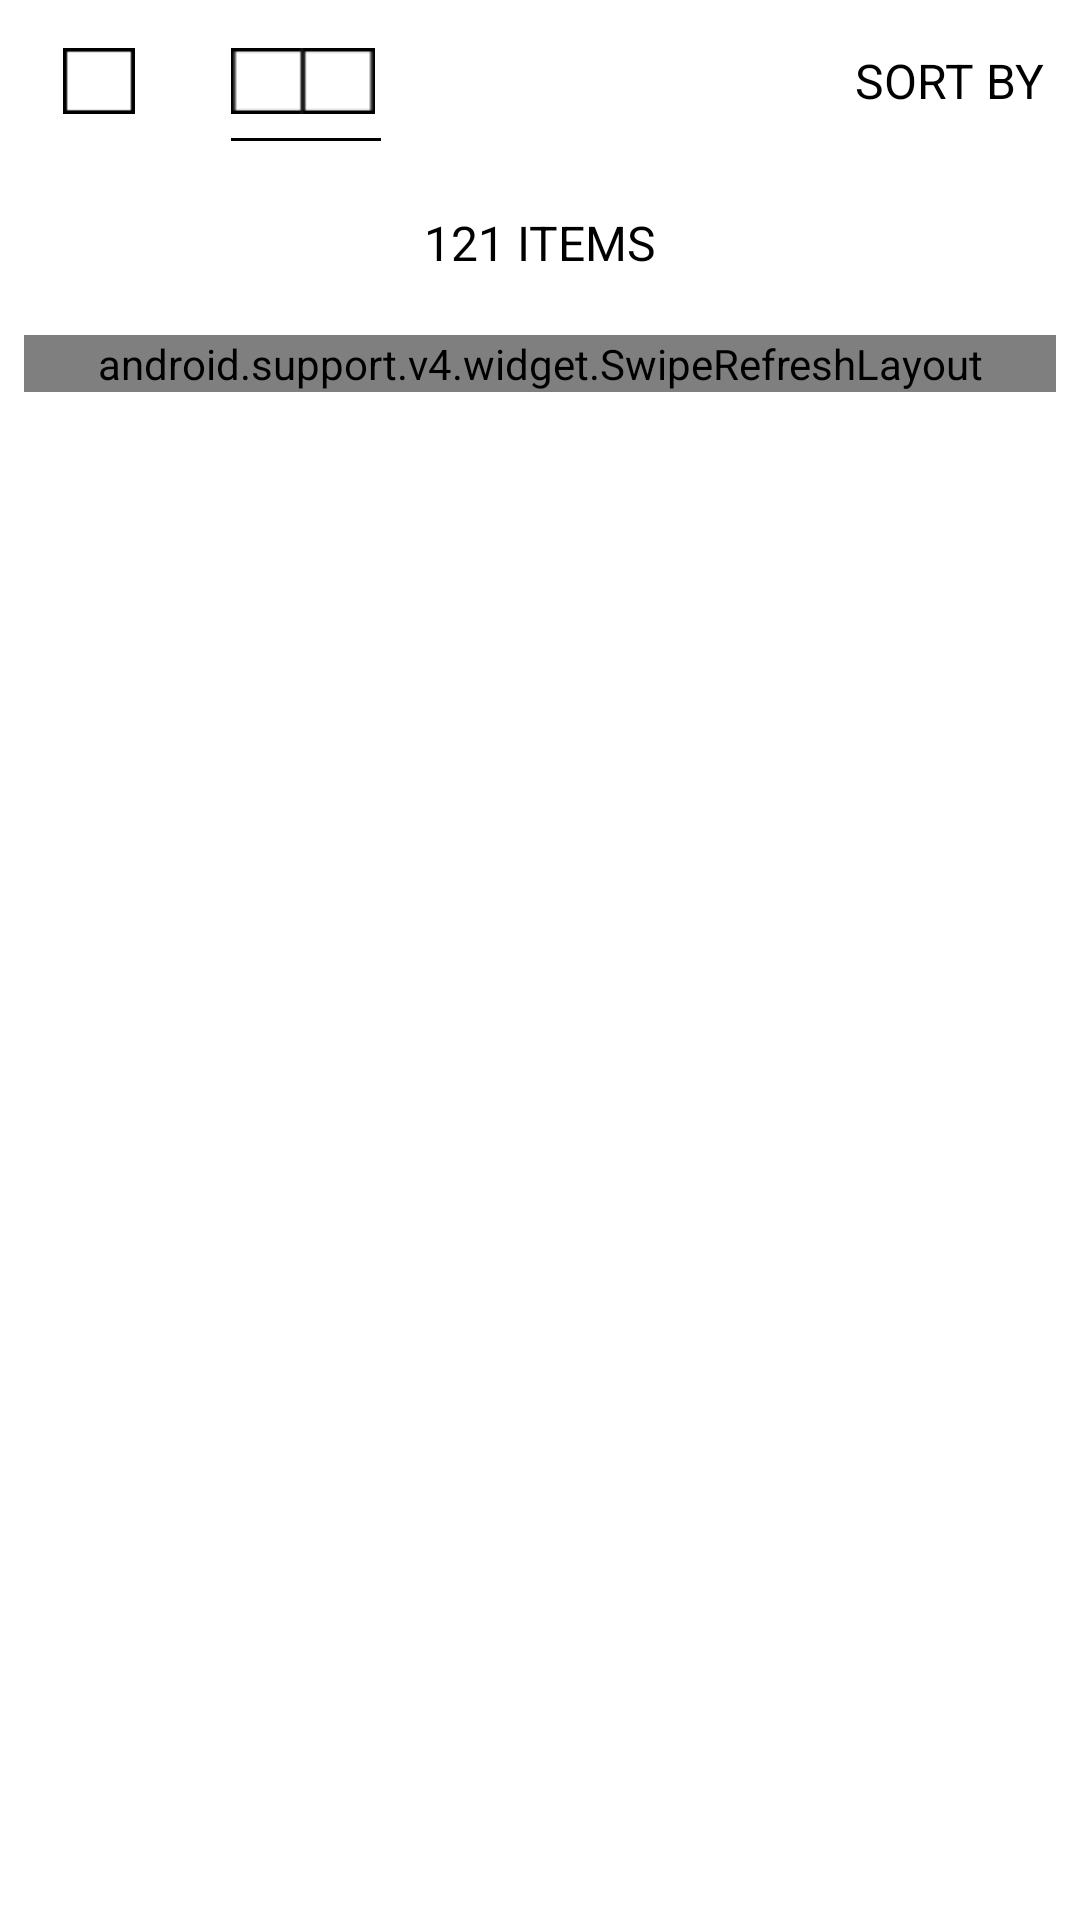

Icon click points for this 1080 x 1920 phone screenshot, format point (x, y):
dual view: point (303, 81)
single view: point (99, 81)
